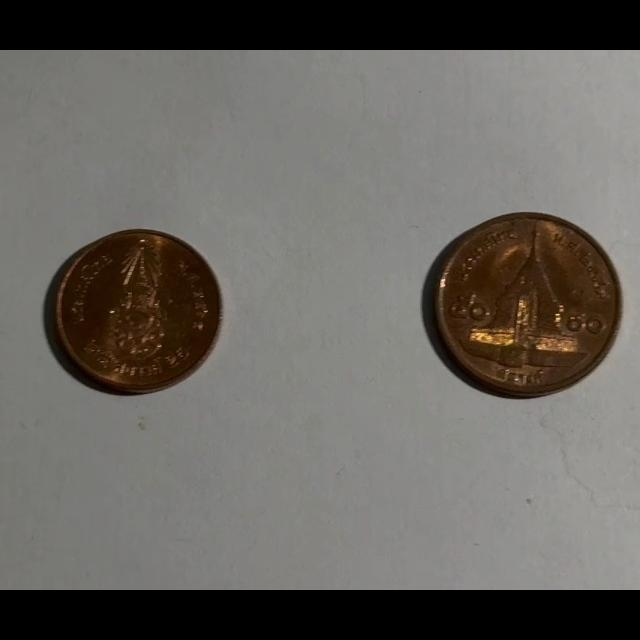25-satang: (53, 231, 221, 394)
50-satang: (432, 214, 622, 396)
